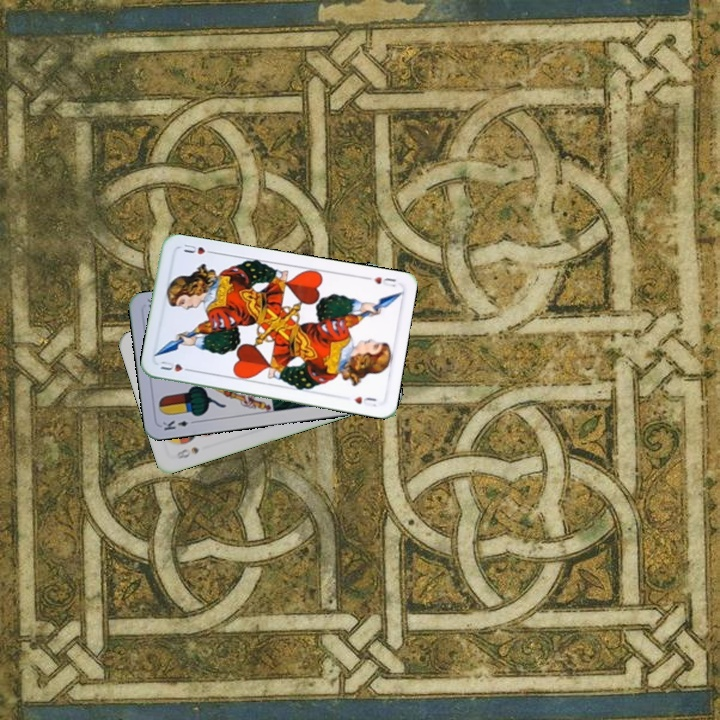EK: (158, 416, 199, 433)
HU: (156, 357, 195, 375), (370, 273, 398, 289)
S8: (173, 443, 201, 462)
